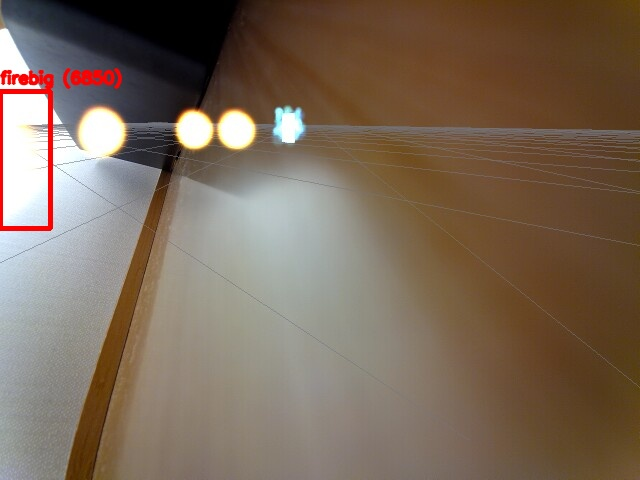firebig: (0, 91, 50, 228)
